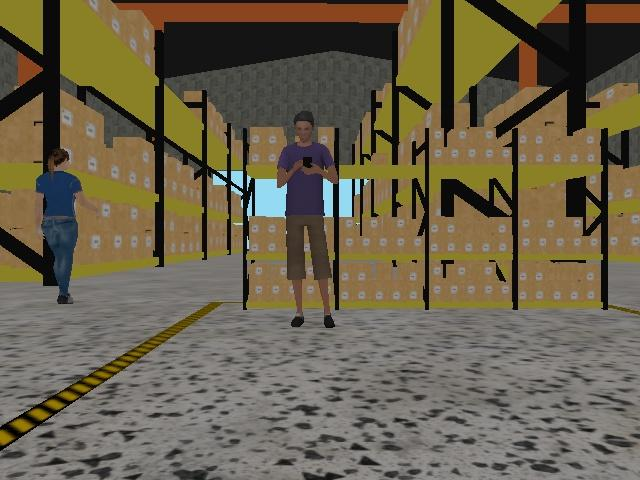person: (275, 109, 341, 332), (33, 145, 104, 307)
